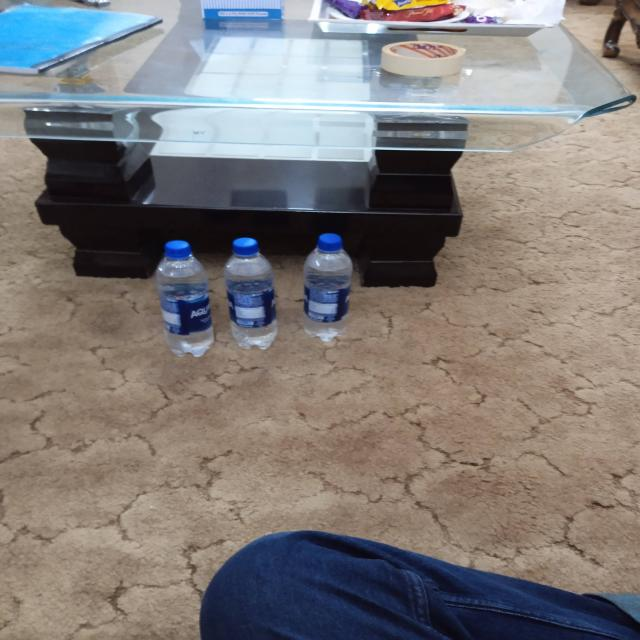Plastic: (156, 238, 213, 357), (226, 235, 280, 351), (306, 230, 355, 344)
